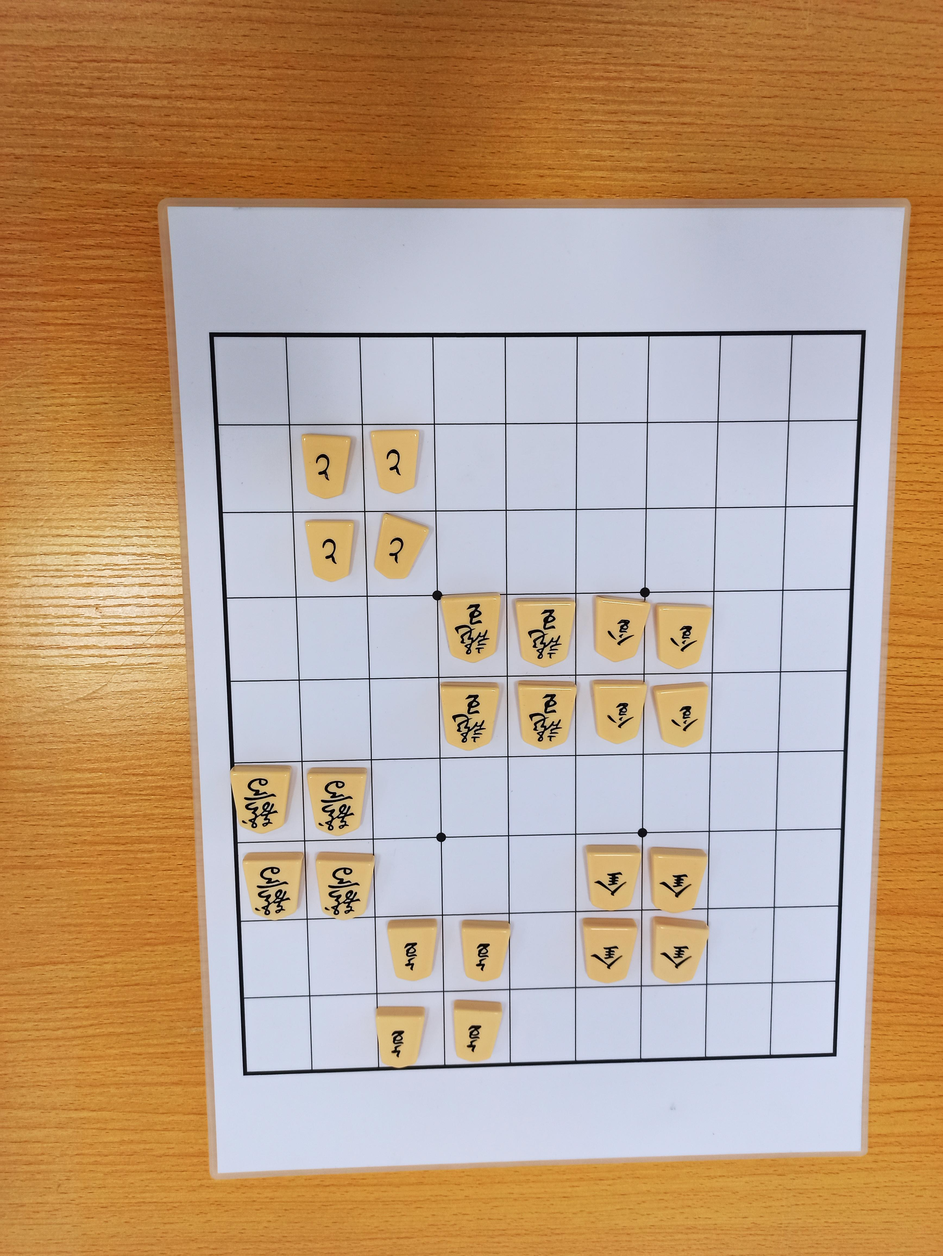board: (211, 333, 864, 1073)
